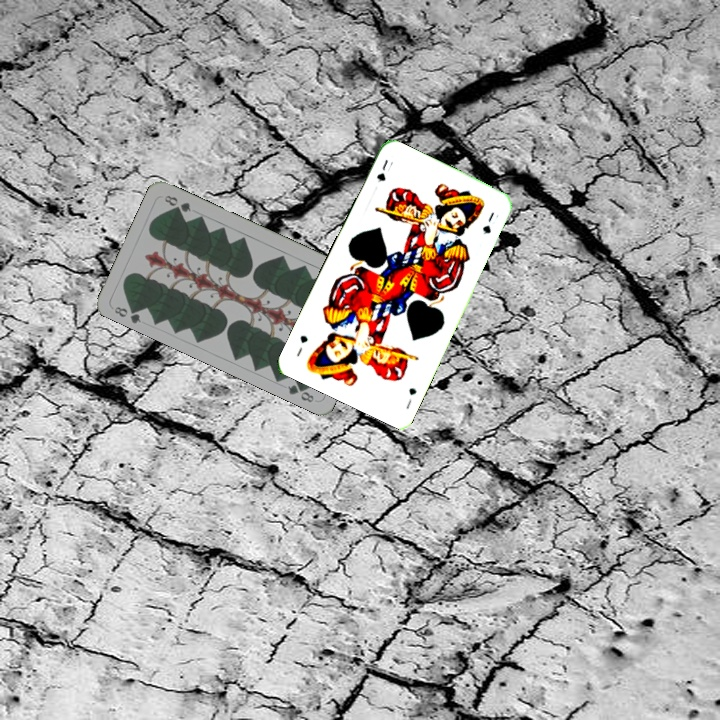G8: (110, 301, 144, 326)
GU: (372, 155, 391, 185), (402, 383, 419, 412)
